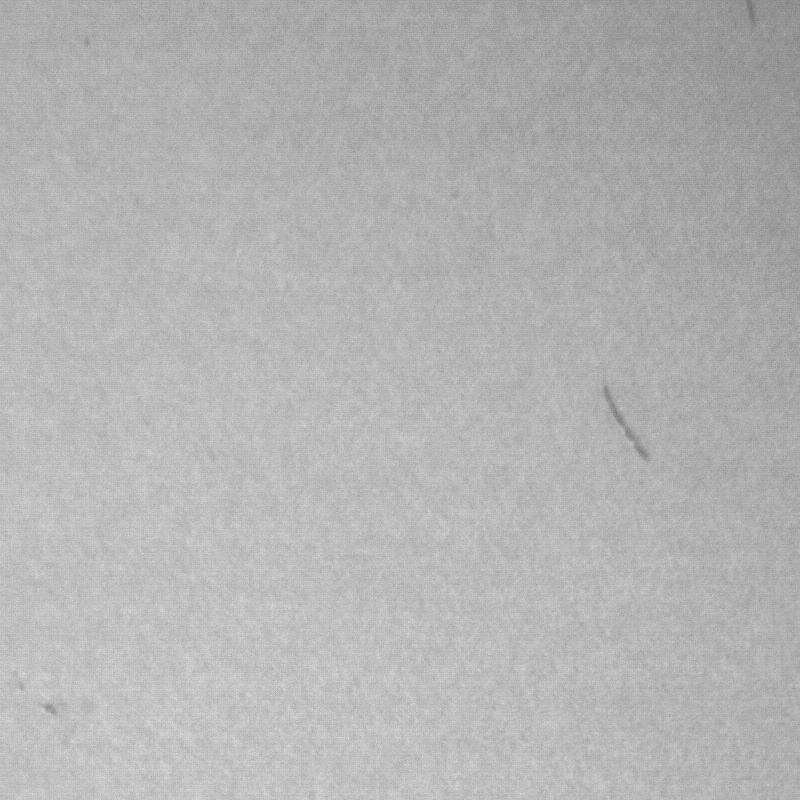defect: (598, 387, 654, 462), (32, 699, 64, 719), (740, 1, 757, 27)
